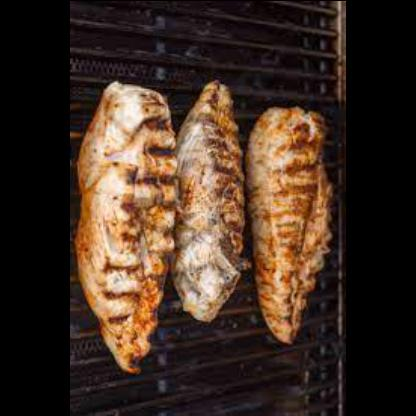grilled chicken breast: (75, 80, 177, 372), (246, 104, 334, 341), (179, 78, 249, 320)
